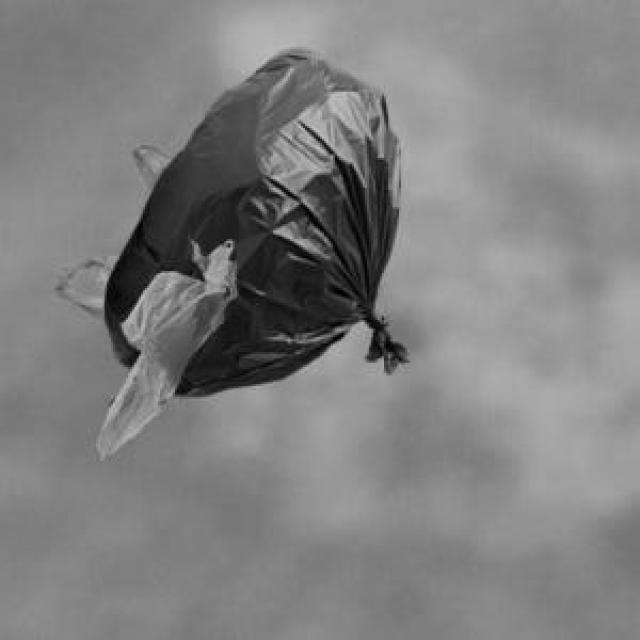miscellaneous trash: (100, 45, 403, 393)
